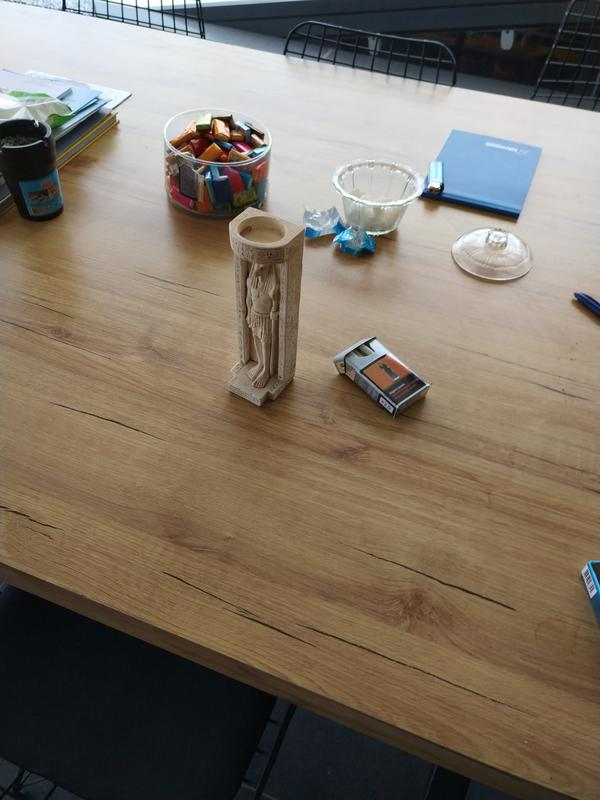heykel: (219, 202, 309, 417)
